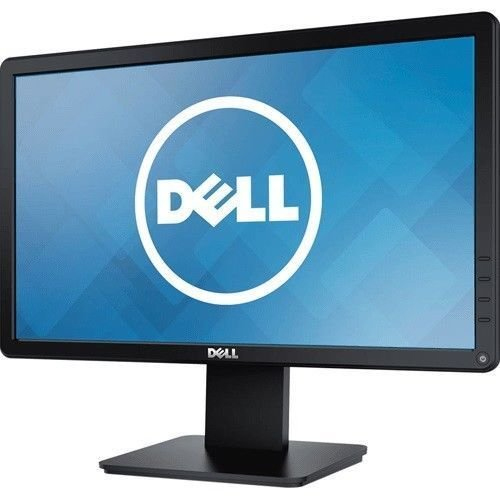dell-monitor-D1918H: (1, 11, 499, 492)
